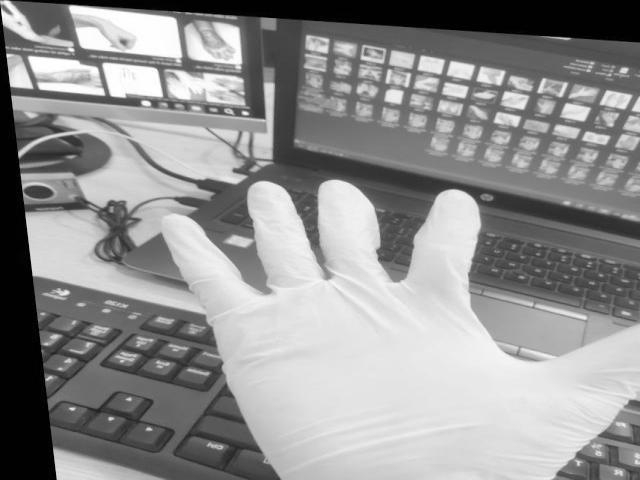gloved: (163, 178, 640, 480)
